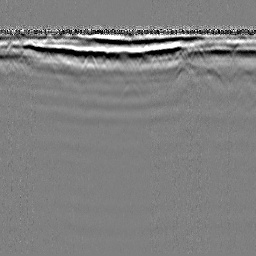cavity: (116, 81, 143, 105)
